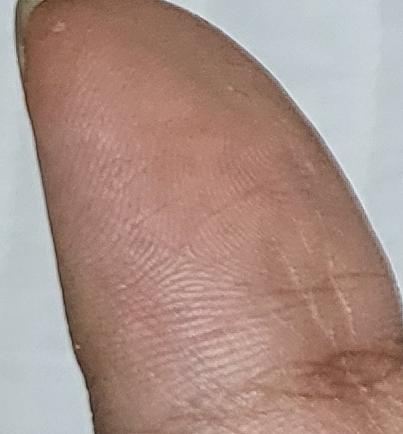Fingerprints: (25, 0, 403, 434)
